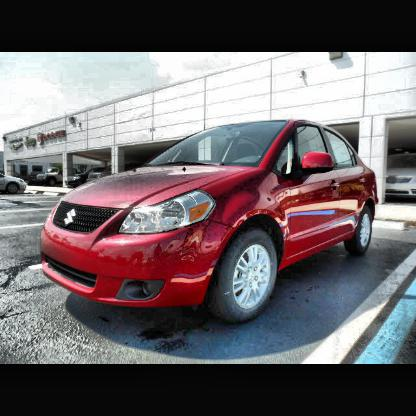Suzuki SX4 Sedan 2012: (42, 119, 379, 327)
